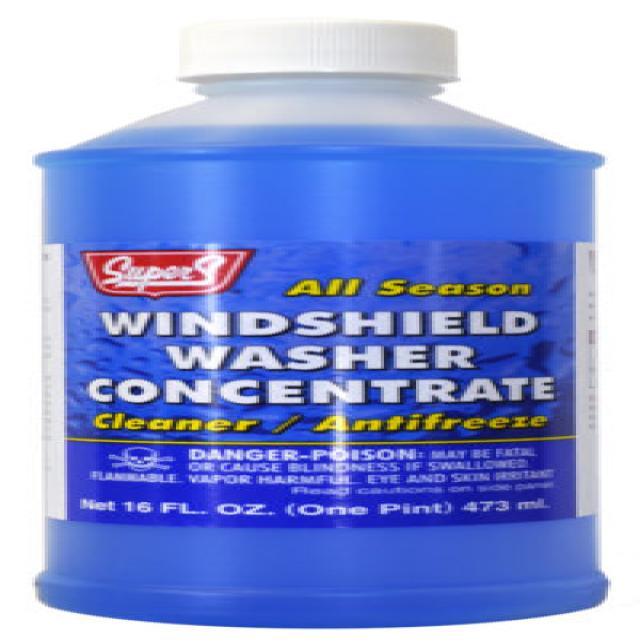winwinshield_washer: (34, 18, 608, 629)
